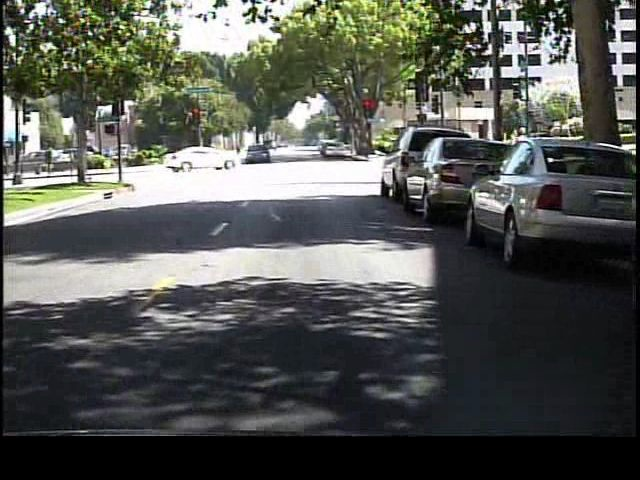person: (246, 141, 262, 170)
